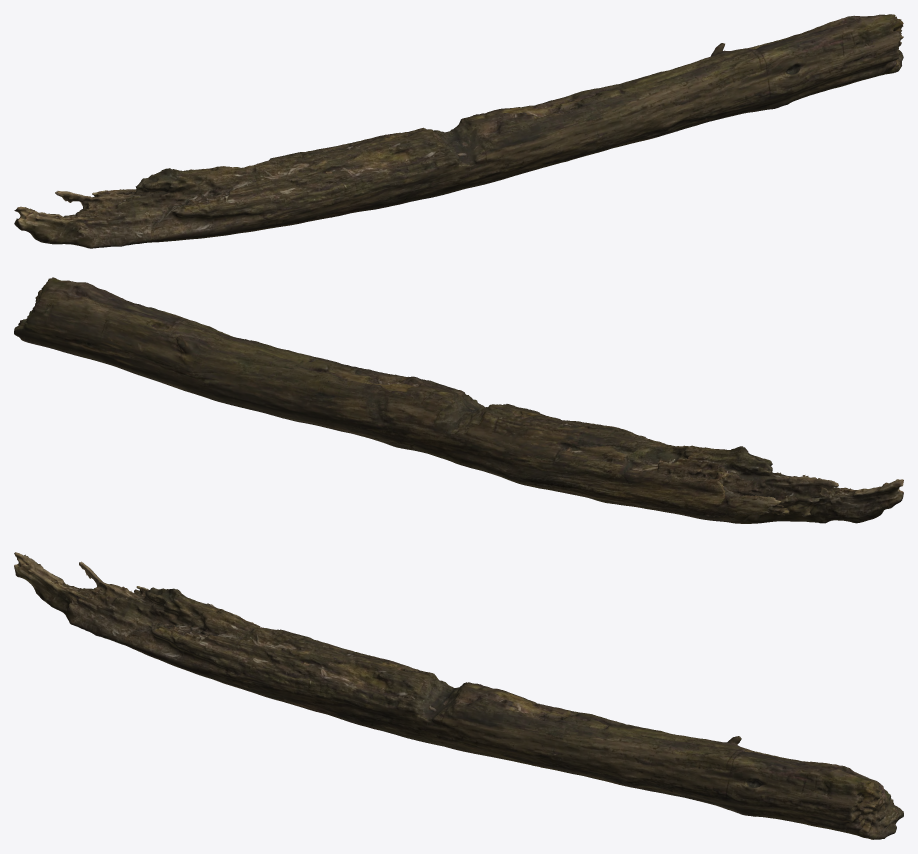
File: dead_tree_trunk.meshopt.gltf
3 renders of one model, top to bottom at view 1: azimuth 30°, elevation 25°; view 2: azimuth 150°, elevation 25°; view 3: azimuth 330°, elevation 25°, orthographic.
Parts seen in each view (by area): view 1: dead_tree_trunk; view 2: dead_tree_trunk; view 3: dead_tree_trunk.
Part boxes in pixels (x1,y1,x2,y2): dead_tree_trunk: (14,14,903,248); dead_tree_trunk: (14,277,903,523); dead_tree_trunk: (14,552,903,839).
Bounding box in the file's own units: 3.05 × 0.2904 × 0.2775.
Materials: 1 (1 with a texture image).
